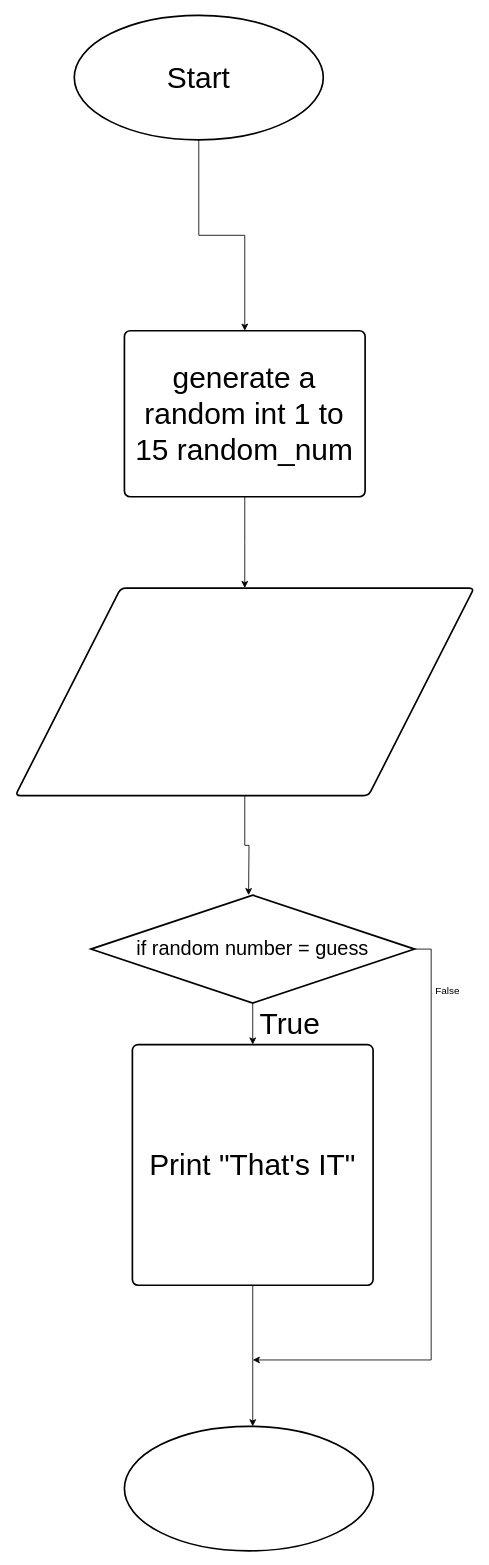
Some shapes in this 489 by 1565 pixel diagram are drawn without their labels. Here are the shapes that lost their labels. From the top down, the box of each, then its label:
(14, 587, 475, 796): Ask for input = guess
(123, 1425, 374, 1551): End
